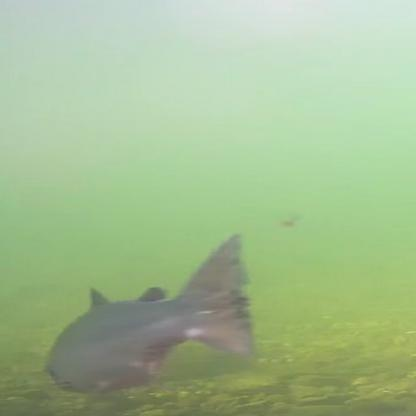salmon: (37, 227, 272, 401)
